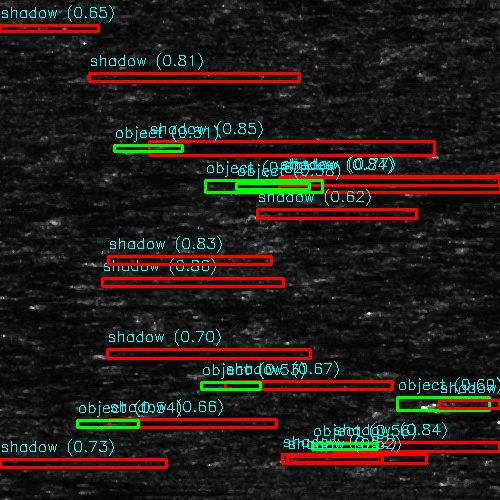rock: (358, 305, 473, 314), (102, 140, 175, 153), (406, 397, 489, 408), (92, 256, 185, 265), (102, 410, 175, 417), (232, 210, 285, 217), (443, 235, 496, 242), (64, 73, 105, 82), (53, 281, 116, 286), (204, 385, 257, 390), (259, 178, 300, 183), (42, 299, 83, 304), (101, 363, 122, 370), (395, 189, 436, 192), (107, 352, 138, 355), (47, 216, 78, 219), (373, 371, 404, 374), (492, 419, 500, 428), (101, 422, 122, 425)
shadow: (139, 140, 421, 153), (0, 479, 160, 496), (85, 73, 292, 82), (63, 299, 342, 304), (139, 256, 281, 265), (280, 178, 500, 183), (259, 210, 404, 217), (416, 305, 500, 314), (231, 385, 378, 390), (0, 461, 144, 466), (85, 281, 225, 286), (0, 25, 83, 32), (448, 397, 500, 408), (112, 363, 183, 370), (139, 410, 210, 417), (123, 352, 266, 355), (112, 422, 254, 425), (389, 371, 500, 374), (416, 189, 500, 192), (269, 341, 343, 344), (470, 235, 500, 242), (63, 216, 132, 219)
